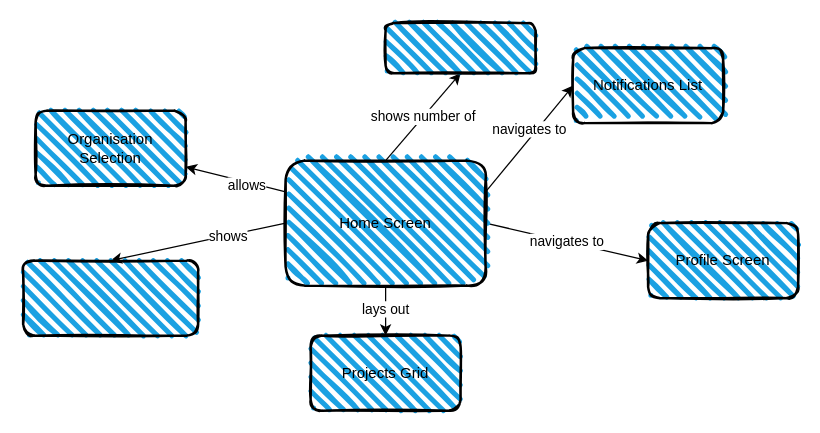
Some shapes in this 820 by 433 pixel diagram are drawn without their labels. Each missing label, with the centre of its shape:
"Notifications" goes at point 460,47.
"Selected Organisation" goes at point 110,297.
